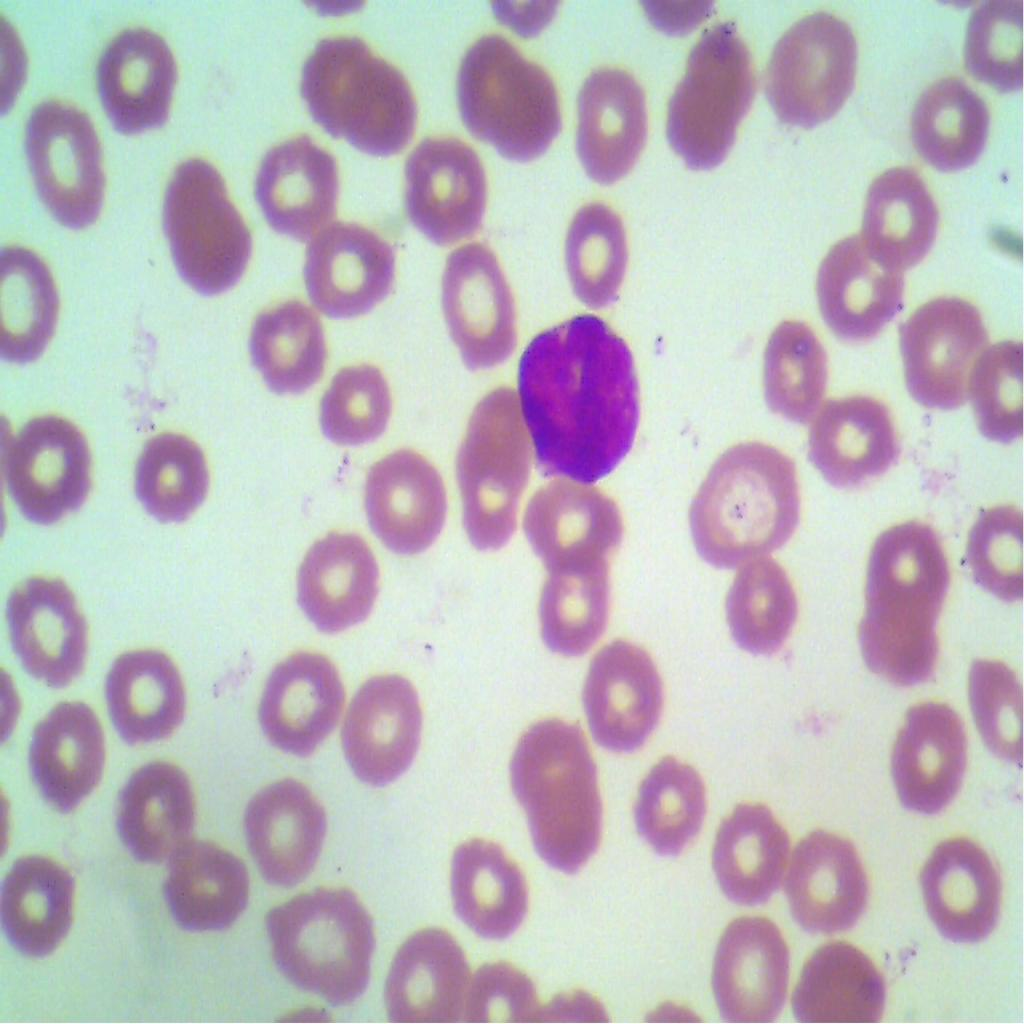Eritrosit: (154, 156, 266, 298), (14, 85, 108, 241), (688, 440, 806, 559), (761, 0, 864, 135), (882, 685, 979, 823), (267, 878, 373, 997), (22, 692, 115, 825), (0, 411, 102, 532), (82, 26, 192, 138), (439, 818, 535, 942), (799, 234, 903, 346), (2, 567, 99, 687), (570, 52, 652, 192), (298, 210, 402, 318), (435, 241, 520, 372), (156, 829, 254, 942), (913, 831, 1002, 955), (237, 767, 328, 888), (290, 525, 384, 642), (786, 820, 878, 939), (897, 287, 988, 407), (702, 898, 790, 1022), (460, 394, 527, 554), (0, 862, 90, 977), (119, 420, 218, 524), (253, 642, 340, 759), (788, 928, 894, 1023), (396, 131, 490, 238), (360, 451, 454, 557), (100, 649, 194, 754), (522, 479, 635, 565), (376, 920, 470, 1023), (342, 672, 425, 787), (906, 68, 992, 178), (803, 397, 908, 487), (248, 134, 346, 230), (957, 641, 1023, 782), (247, 301, 335, 404), (0, 242, 70, 371), (658, 77, 743, 180), (762, 304, 830, 431), (710, 796, 788, 906), (120, 755, 202, 859), (855, 588, 942, 685), (452, 31, 530, 139), (588, 645, 665, 752), (340, 68, 428, 161), (542, 544, 612, 660), (863, 518, 948, 612), (510, 714, 594, 808), (726, 558, 802, 660), (558, 198, 627, 310), (638, 748, 710, 852), (530, 760, 604, 861), (494, 62, 564, 168), (959, 4, 1023, 114), (862, 161, 933, 260), (682, 17, 757, 109), (293, 32, 370, 117), (962, 334, 1023, 438), (957, 498, 1023, 594), (319, 368, 398, 448)
Limfoblast: (507, 302, 645, 494)
Platelet: (988, 161, 1023, 197)
